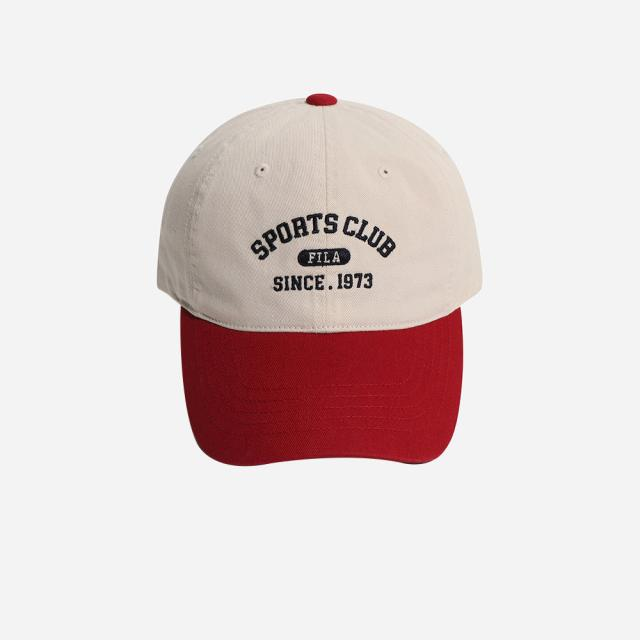Nonhelmet: (146, 68, 490, 484)
